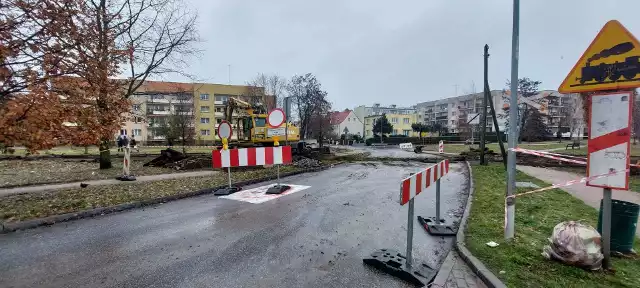a10: (565, 39, 640, 88)
